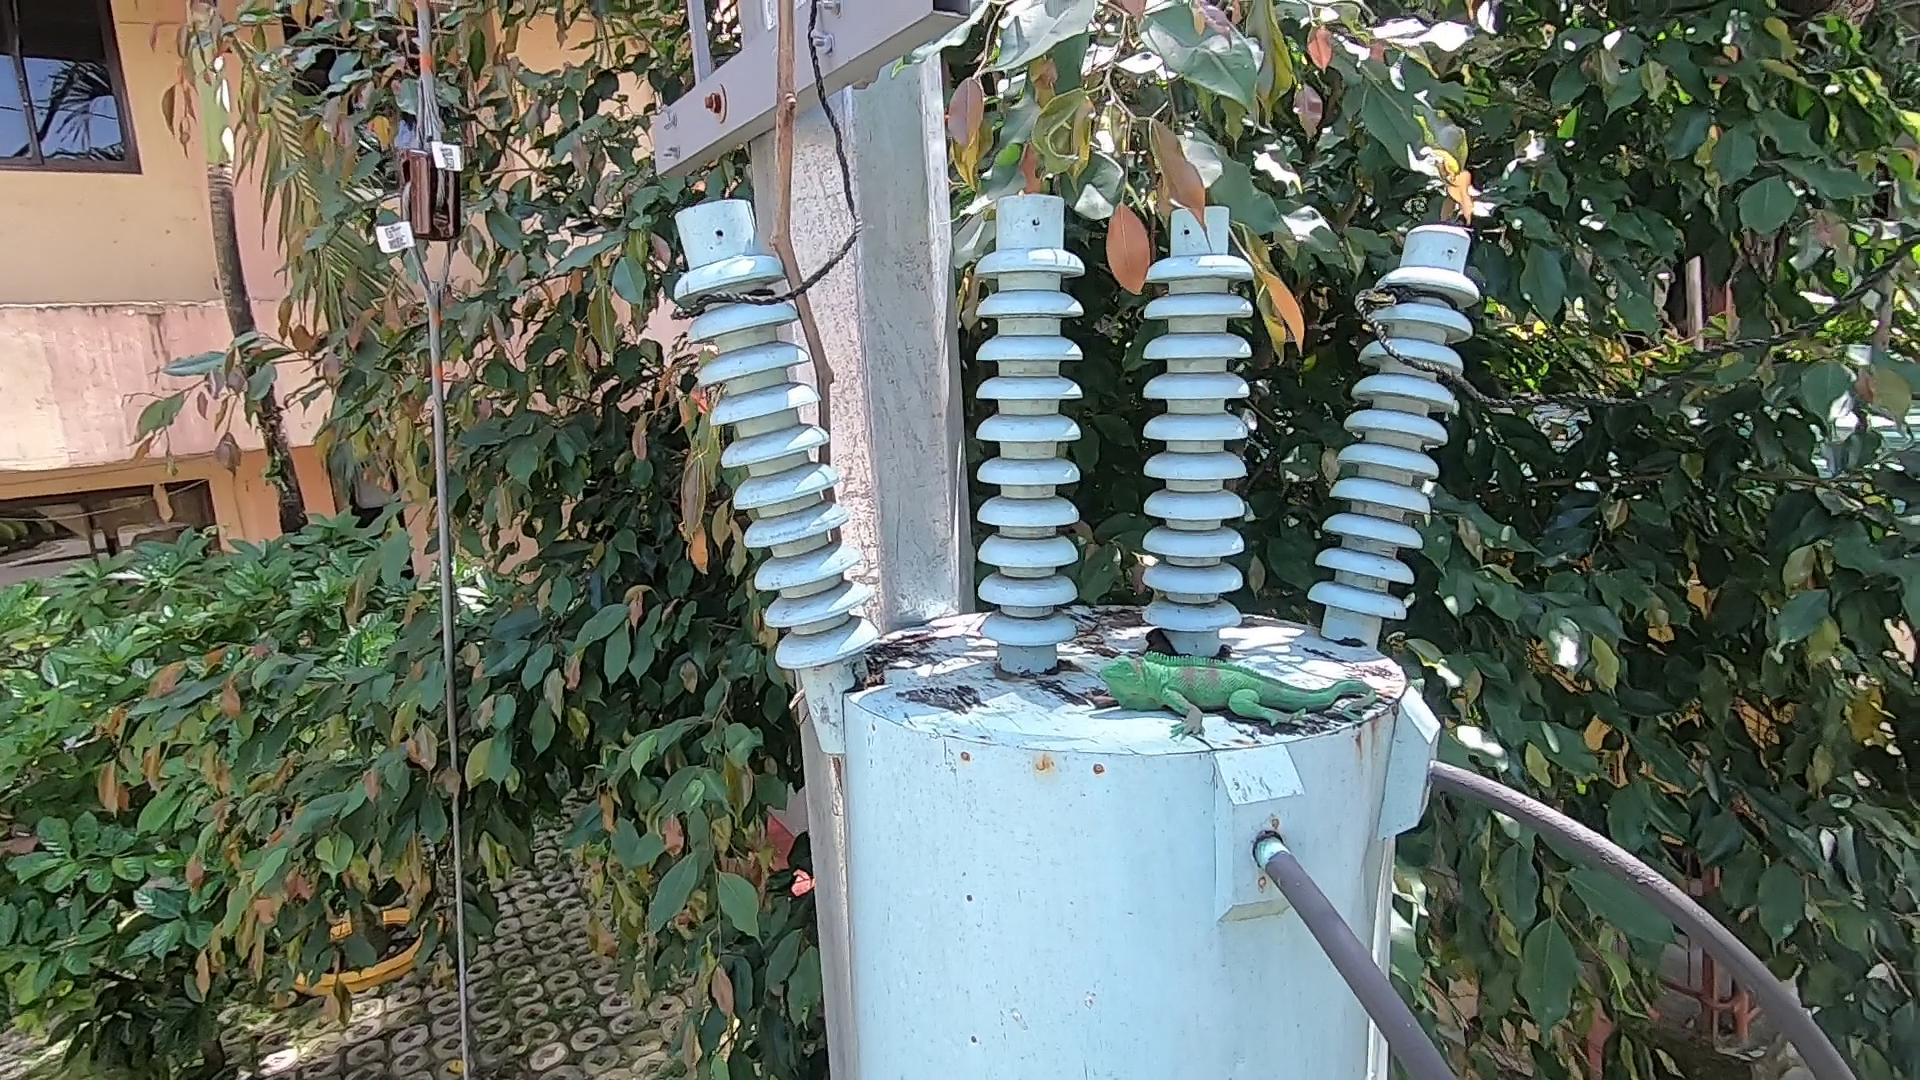branch with leaves: (1087, 112, 1375, 384)
leaf: (1139, 616, 1185, 669), (845, 653, 899, 696)
tree branch: (723, 1, 887, 785)
